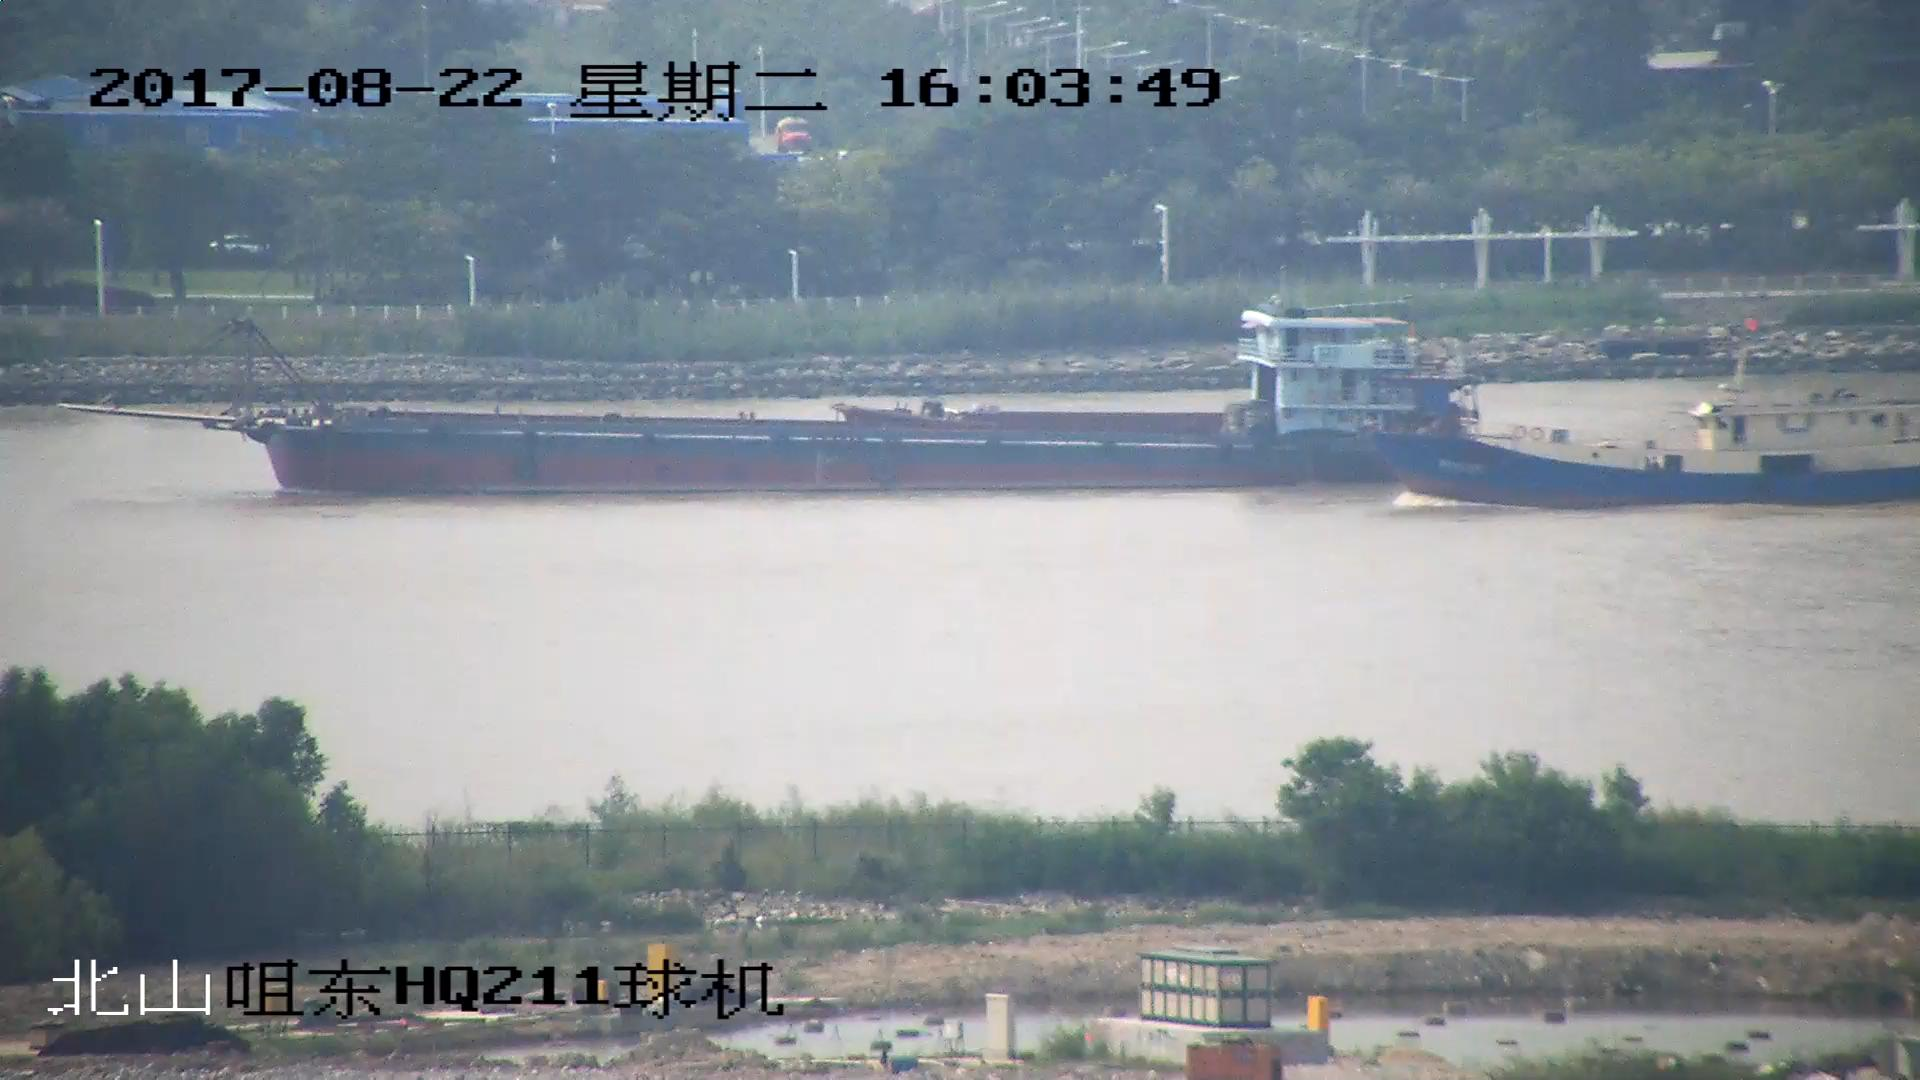bulk cargo carrier: (59, 295, 1491, 486)
fishing boat: (1378, 324, 1920, 510)
